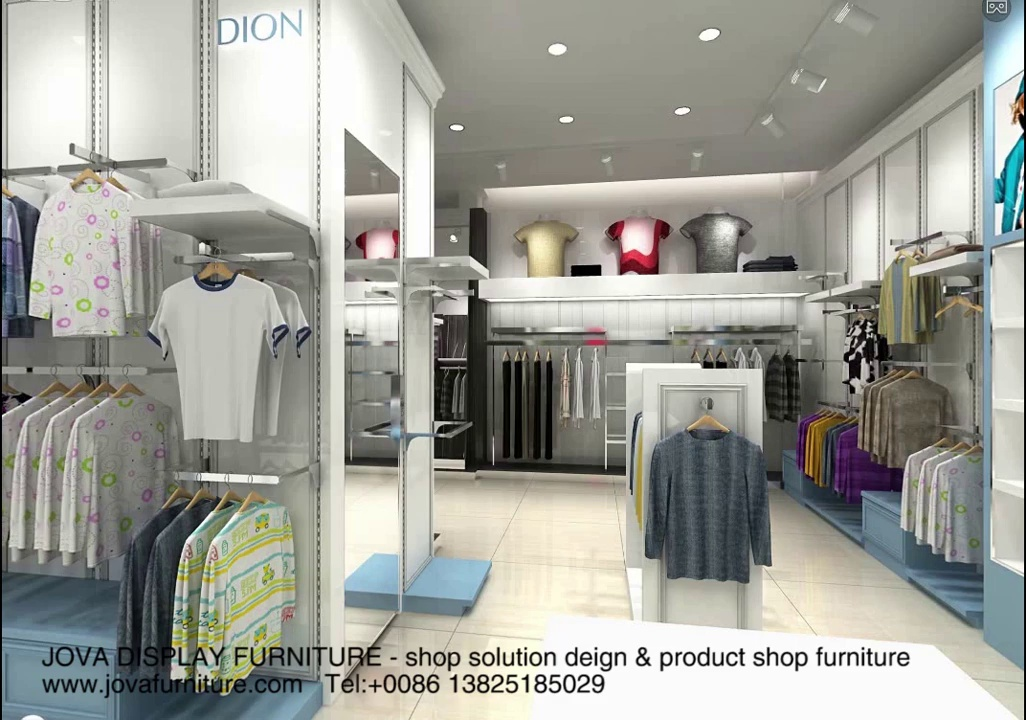grey shirt: (640, 400, 782, 593)
white shirt: (154, 268, 312, 453)
white shirt 2: (3, 396, 128, 560), (23, 175, 139, 349), (905, 441, 976, 569)
white shirt 3: (188, 499, 297, 642)
